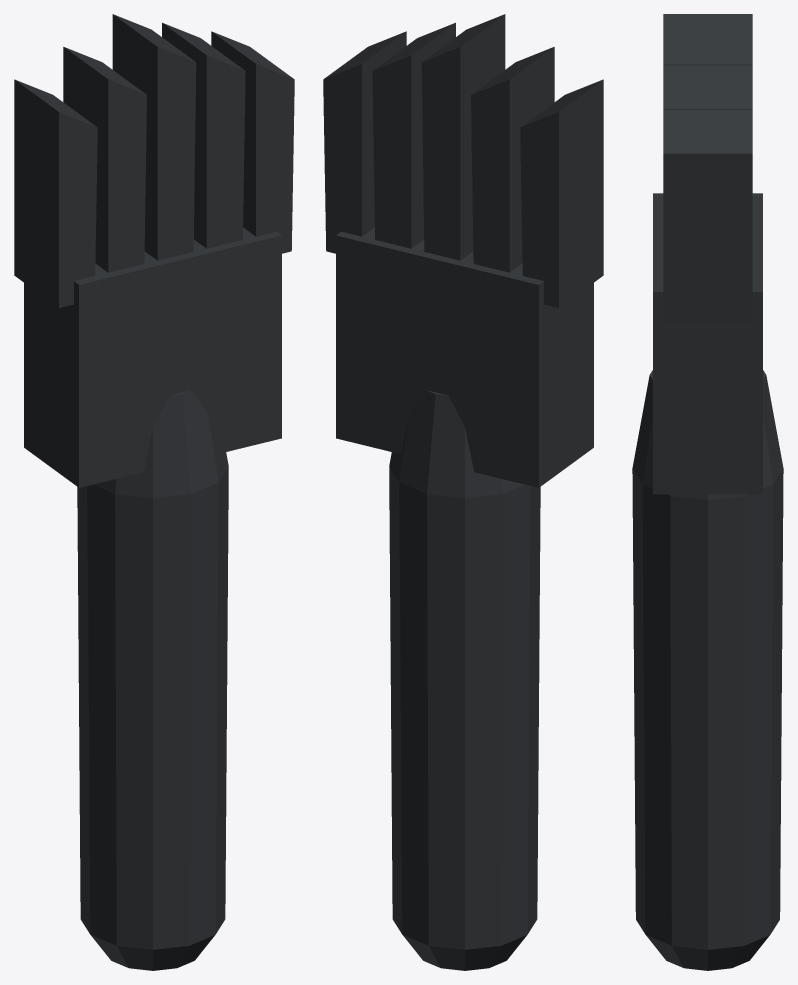
File: MINING_BRUSH.shadow.glb
3 views of the same model, side by side, from view 1: azimuth 30°, elevation 25°; view 2: azimuth 150°, elevation 25°; view 3: azimuth 270°, elevation 25° (orthographic).
Parts seen in each view (by area): view 1: Body_Mesh; view 2: Body_Mesh; view 3: Body_Mesh.
Boxes of the visible parts, x1,y1,x2,y2 form: Body_Mesh: (14,14,294,970); Body_Mesh: (323,14,603,970); Body_Mesh: (632,14,783,970).
Size of the model in its own units: 0.079 by 0.296 by 0.044.
Materials: 1 (1 with a texture image).
